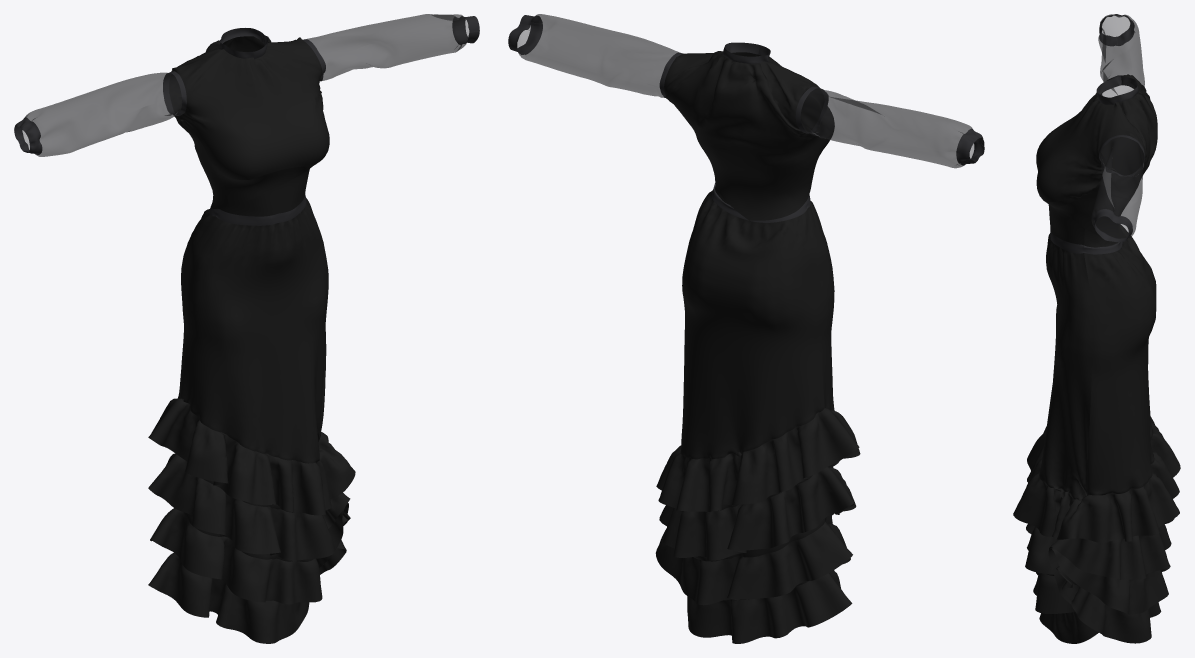
File: G_clothe_without_waistband.glb
The picture shows the model from 3 angles, left to right: view 1: azimuth 30°, elevation 25°; view 2: azimuth 150°, elevation 25°; view 3: azimuth 270°, elevation 25°; orthographic projection. The views are drawn at different scales.
Visible parts, largest first — view 1: Garment; view 2: Garment; view 3: Garment.
Boxes of the visible parts, x1,y1,x2,y2 form: Garment: [14, 14, 479, 643]; Garment: [508, 14, 984, 643]; Garment: [1013, 14, 1180, 643].
Size of the model in its own units: 1.15 by 1.41 by 0.3899.
Materials: 1 (1 with a texture image).
